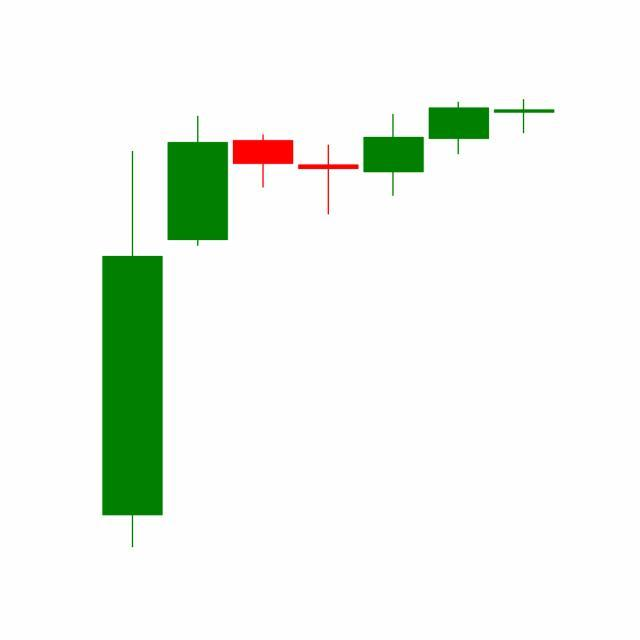Hikkake Pattern: (165, 100, 492, 248)
